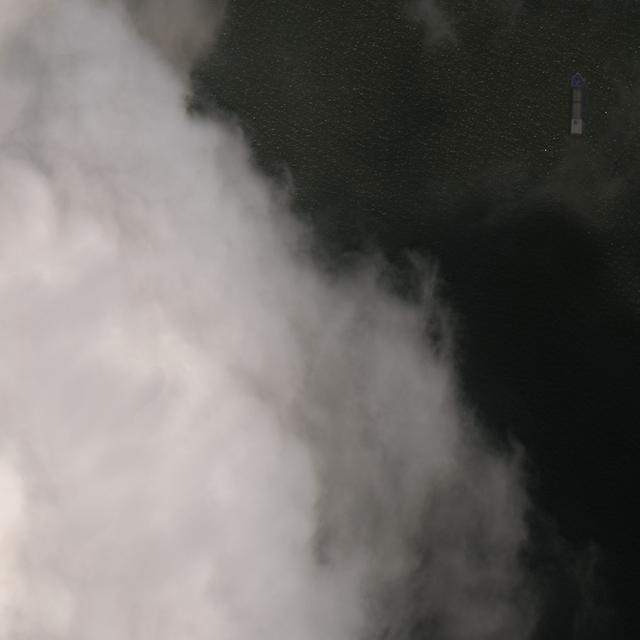Cargo: (570, 71, 585, 136)
